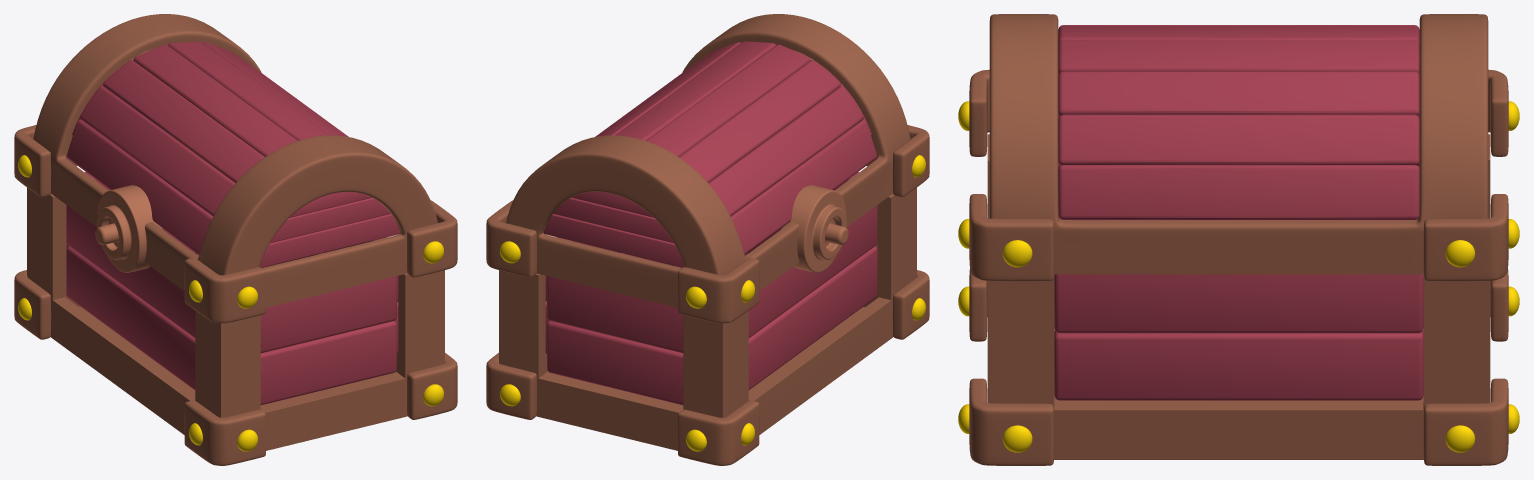
File: stylized_chest__origin__fix.fbx
3 renders of one model, left to right at view 1: azimuth 30°, elevation 25°; view 2: azimuth 150°, elevation 25°; view 3: azimuth 270°, elevation 25°, orthographic. The views are drawn at different scales.
Parts seen in each view (by area): view 1: top_part, bottom_part; view 2: top_part, bottom_part; view 3: top_part, bottom_part.
Part boxes in pixels (x1,y1,x2,y2): top_part: (14, 14, 457, 323); bottom_part: (14, 172, 457, 465); top_part: (486, 14, 929, 323); bottom_part: (486, 172, 929, 465); top_part: (958, 14, 1519, 281); bottom_part: (958, 134, 1519, 465).
Bounding box in the file's own units: 239 × 237 × 335.
